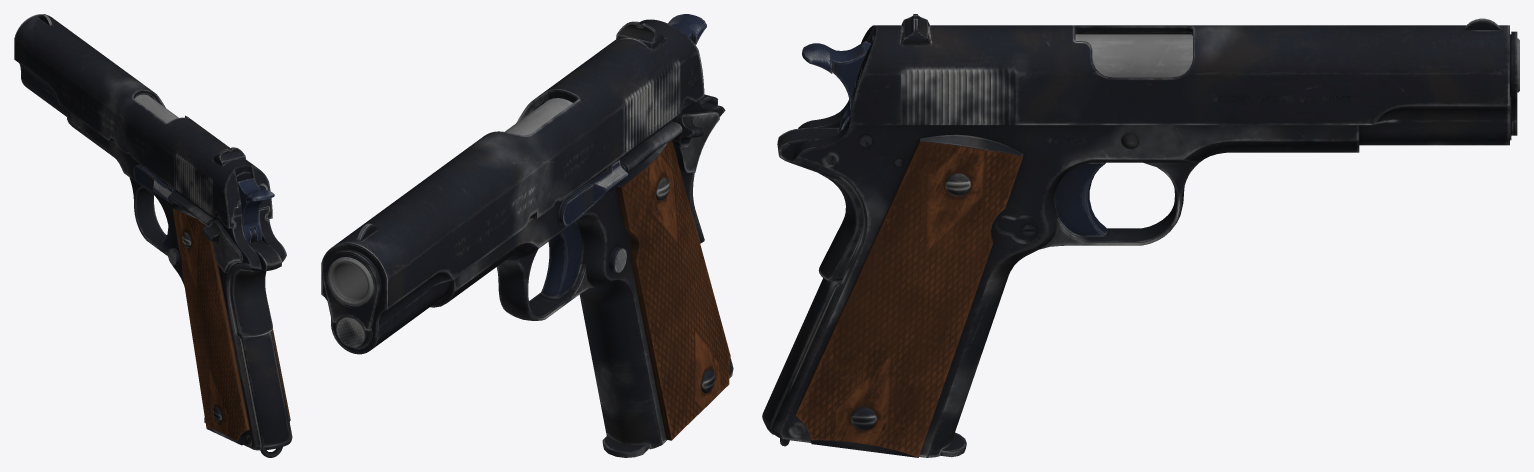
The model's file is m1911-glb.glb.
The picture shows the model from 3 angles, left to right: view 1: azimuth 30°, elevation 25°; view 2: azimuth 150°, elevation 25°; view 3: azimuth 270°, elevation 25°; orthographic projection. The views are drawn at different scales.
Visible parts, largest first — view 1: Frame, Slide, Hammer, SlideStop, Barrel; view 2: Slide, Frame, Barrel, Trigger, SlideStop, Hammer, Magazine; view 3: Frame, Slide, Barrel, Trigger, Hammer.
Part boxes in pixels (x1=…): Frame: x1=67, y1=111, x2=292, y2=457; Slide: x1=14, y1=14, x2=272, y2=228; Hammer: x1=237, y1=178, x2=274, y2=243; SlideStop: x1=133, y1=164, x2=175, y2=203; Barrel: x1=134, y1=94, x2=178, y2=123; Slide: x1=321, y1=19, x2=704, y2=354; Frame: x1=430, y1=94, x2=733, y2=449; Barrel: x1=327, y1=98, x2=572, y2=306; Trigger: x1=540, y1=223, x2=581, y2=299; SlideStop: x1=558, y1=159, x2=628, y2=226; Hammer: x1=668, y1=14, x2=706, y2=44; Magazine: x1=602, y1=435, x2=649, y2=457; Frame: x1=762, y1=99, x2=1359, y2=457; Slide: x1=850, y1=14, x2=1517, y2=145; Barrel: x1=1075, y1=34, x2=1519, y2=92; Trigger: x1=1055, y1=162, x2=1107, y2=237; Hammer: x1=802, y1=41, x2=870, y2=130.
Bounding box in the file's own units: 0.0325 × 0.1362 × 0.2167.
Materials: 1 (1 with a texture image).
